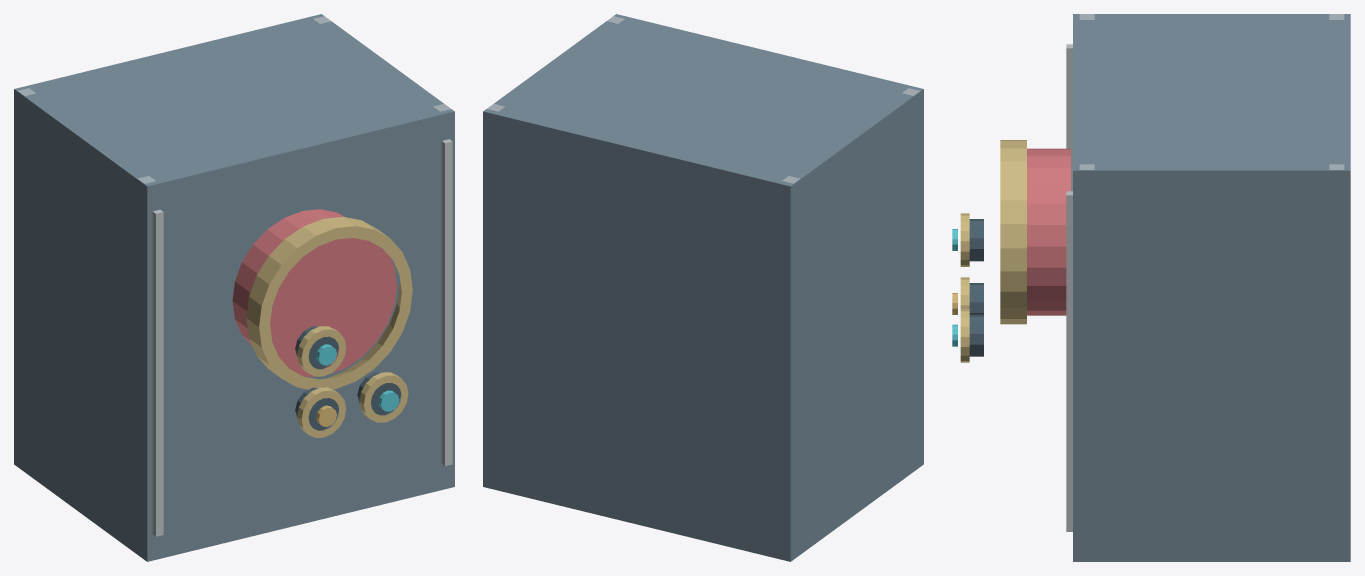
Rendered from 72_L83_EmergencyPowerIsolationStation.glb.
3 views of the same model, side by side, from view 1: azimuth 30°, elevation 25°; view 2: azimuth 150°, elevation 25°; view 3: azimuth 270°, elevation 25° (orthographic). The views are drawn at different scales.
Visible parts, largest first — view 1: EmergencyPowerIsolationStation_Node_0000, EmergencyPowerIsolationStation_Node_0007, EmergencyPowerIsolationStation_Node_0008, EmergencyPowerIsolationStation_Node_0005, EmergencyPowerIsolationStation_Node_0006, EmergencyPowerIsolationStation_Node_0010, EmergencyPowerIsolationStation_Node_0013, EmergencyPowerIsolationStation_Node_0016, EmergencyPowerIsolationStation_Node_0015, EmergencyPowerIsolationStation_Node_0012, EmergencyPowerIsolationStation_Node_0009; view 2: EmergencyPowerIsolationStation_Node_0000; view 3: EmergencyPowerIsolationStation_Node_0000, EmergencyPowerIsolationStation_Node_0007, EmergencyPowerIsolationStation_Node_0008, EmergencyPowerIsolationStation_Node_0006, EmergencyPowerIsolationStation_Node_0005, EmergencyPowerIsolationStation_Node_0012, EmergencyPowerIsolationStation_Node_0015, EmergencyPowerIsolationStation_Node_0013, EmergencyPowerIsolationStation_Node_0016.
Boxes of the visible parts, x1,y1,x2,y2 form: EmergencyPowerIsolationStation_Node_0000: [14, 14, 454, 561]; EmergencyPowerIsolationStation_Node_0007: [232, 209, 396, 376]; EmergencyPowerIsolationStation_Node_0008: [246, 216, 412, 389]; EmergencyPowerIsolationStation_Node_0005: [152, 209, 163, 536]; EmergencyPowerIsolationStation_Node_0006: [441, 139, 452, 466]; EmergencyPowerIsolationStation_Node_0010: [297, 387, 346, 437]; EmergencyPowerIsolationStation_Node_0013: [359, 372, 408, 422]; EmergencyPowerIsolationStation_Node_0016: [297, 326, 346, 376]; EmergencyPowerIsolationStation_Node_0015: [295, 326, 338, 369]; EmergencyPowerIsolationStation_Node_0012: [357, 372, 401, 415]; EmergencyPowerIsolationStation_Node_0009: [295, 387, 338, 430]; EmergencyPowerIsolationStation_Node_0000: [483, 14, 923, 561]; EmergencyPowerIsolationStation_Node_0000: [1073, 14, 1350, 561]; EmergencyPowerIsolationStation_Node_0007: [1027, 148, 1070, 315]; EmergencyPowerIsolationStation_Node_0008: [1000, 140, 1026, 324]; EmergencyPowerIsolationStation_Node_0006: [1066, 191, 1072, 531]; EmergencyPowerIsolationStation_Node_0005: [1066, 44, 1072, 191]; EmergencyPowerIsolationStation_Node_0012: [969, 314, 983, 356]; EmergencyPowerIsolationStation_Node_0015: [969, 219, 983, 261]; EmergencyPowerIsolationStation_Node_0013: [960, 309, 969, 362]; EmergencyPowerIsolationStation_Node_0016: [960, 213, 969, 266].
Bounding box in the file's own units: 0.84 × 0.9807 × 0.9045.
